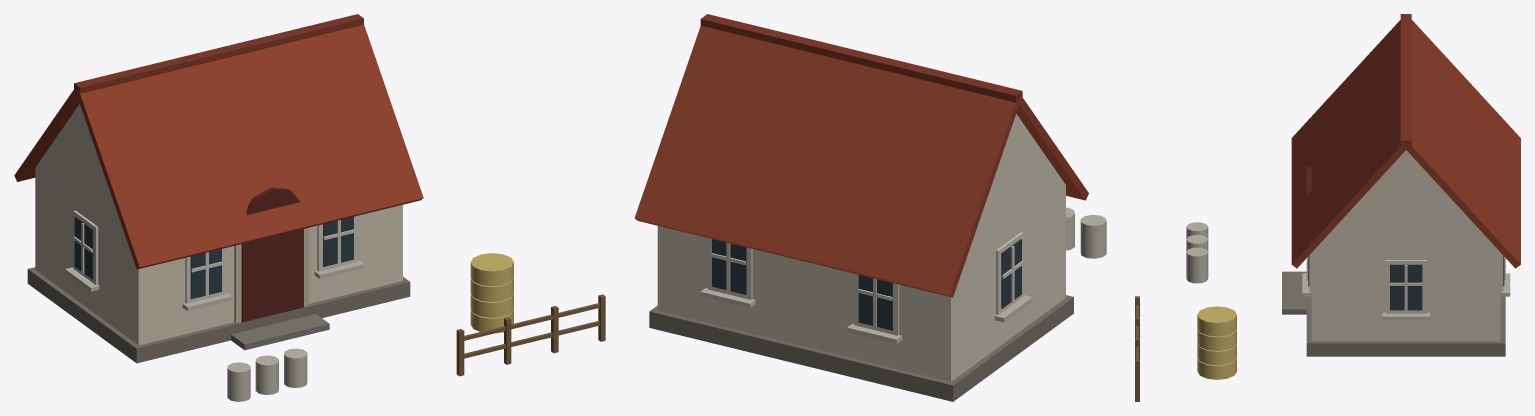
File: procedural_dairy@4.glb
The picture shows the model from 3 angles, left to right: view 1: azimuth 30°, elevation 25°; view 2: azimuth 150°, elevation 25°; view 3: azimuth 270°, elevation 25°; orthographic projection. The views are drawn at different scales.
Parts seen in each view (by area): view 1: part_0; view 2: part_0; view 3: part_0.
Part boxes in pixels (x1=…): part_0: x1=14, y1=14, x2=605, y2=401; part_0: x1=634, y1=14, x2=1106, y2=401; part_0: x1=1135, y1=14, x2=1520, y2=401.
Size of the model in its own units: 8.06 by 4.85 by 7.75.
